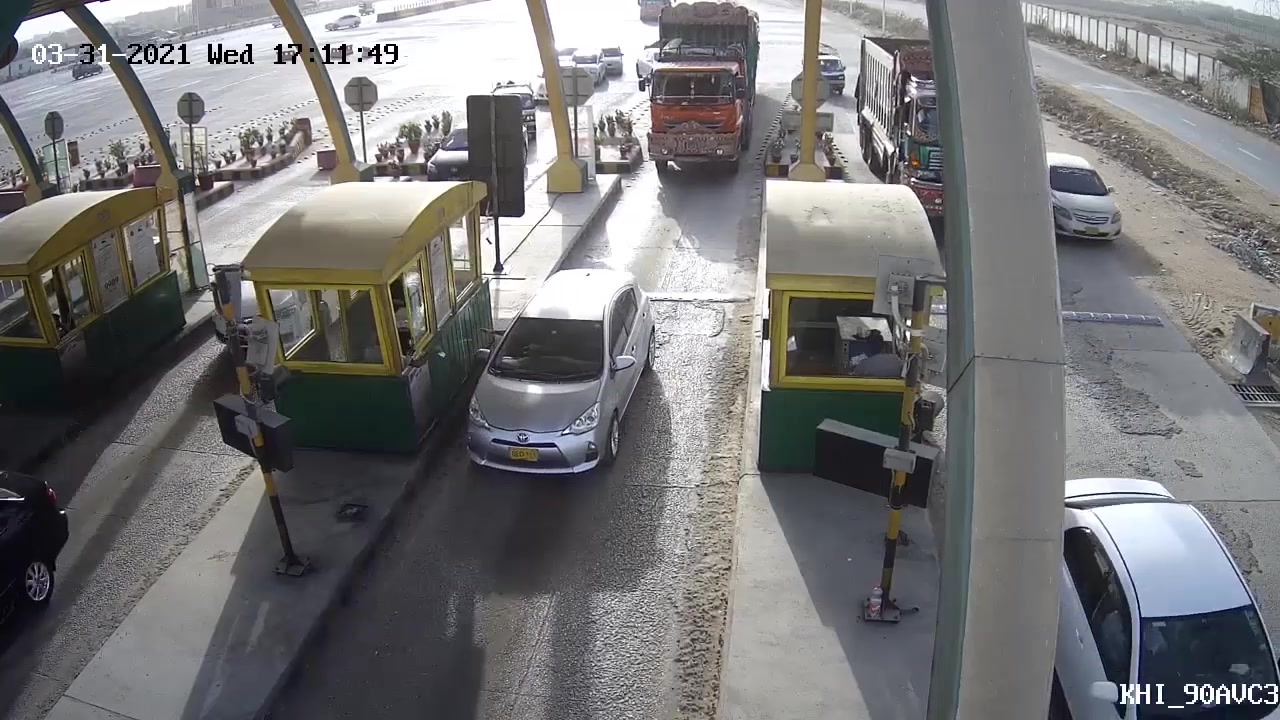F1: (431, 261, 668, 488)
F6: (630, 5, 766, 192)
